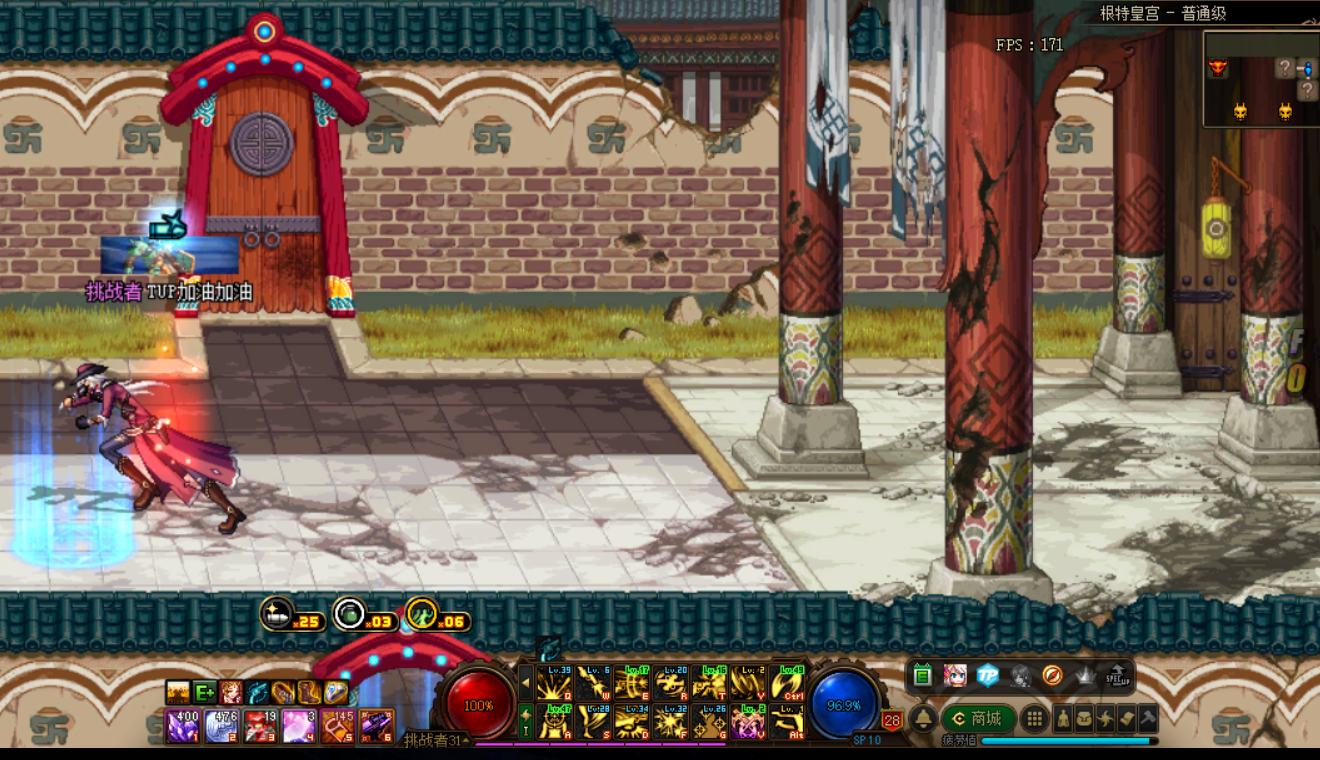warrior: (50, 362, 262, 538)
